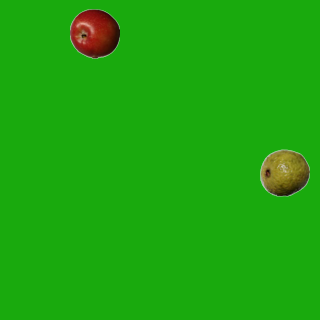Apple Braeburn: (69, 8, 119, 58)
Guava: (259, 147, 309, 197)
